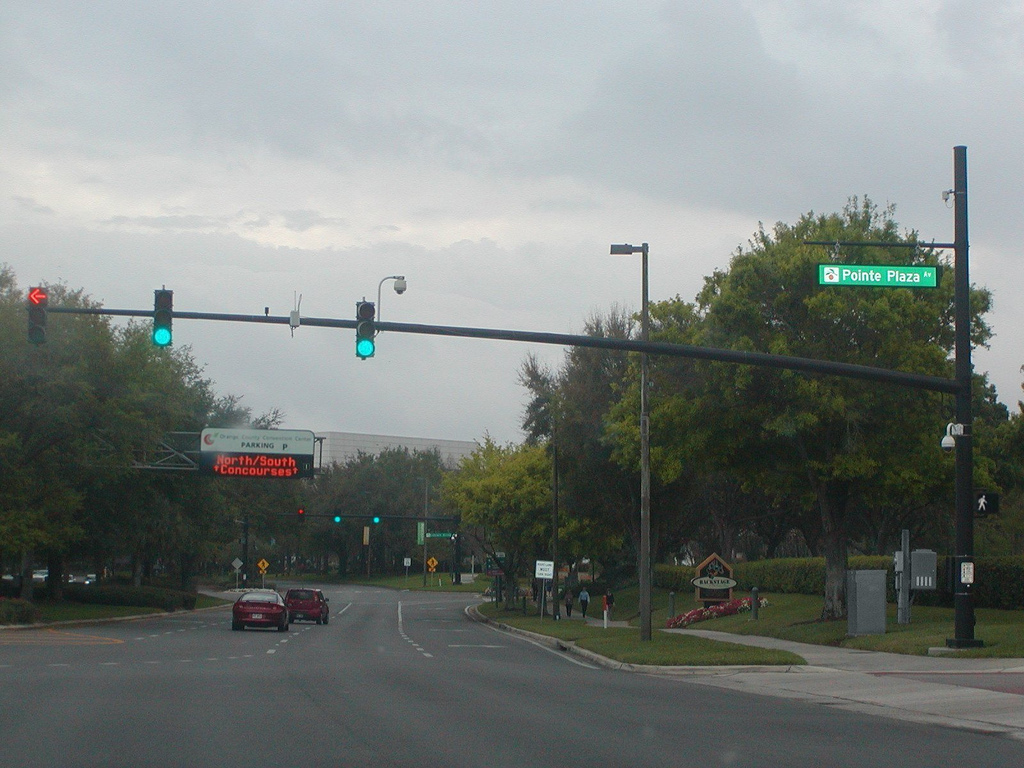traffic_light: (25, 285, 50, 346), (353, 299, 377, 361), (151, 287, 175, 348)
